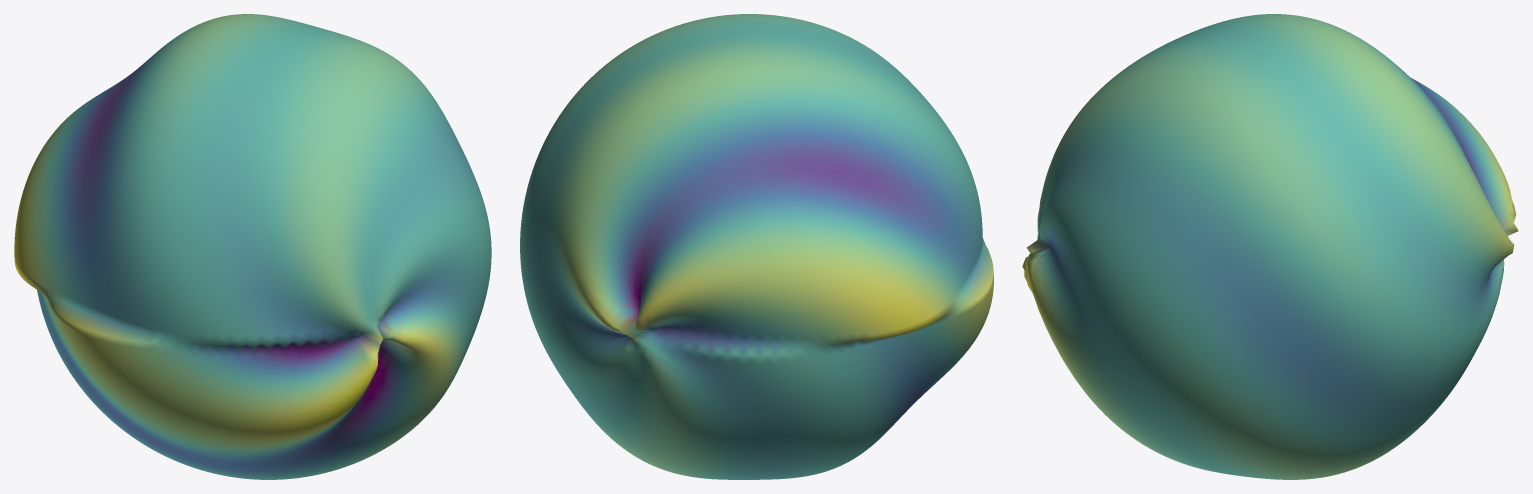
File: sphere_frame_0003.glb
The picture shows the model from 3 angles, left to right: view 1: azimuth 30°, elevation 25°; view 2: azimuth 150°, elevation 25°; view 3: azimuth 270°, elevation 25°; orthographic projection.
Parts seen in each view (by area): view 1: world; view 2: world; view 3: world.
Part boxes in pixels (box(x1,y1,x2,y2)): world: box(14, 14, 491, 479); world: box(520, 14, 993, 479); world: box(1022, 14, 1518, 479).
Size of the model in its own units: 2.18 by 2.16 by 2.31.
